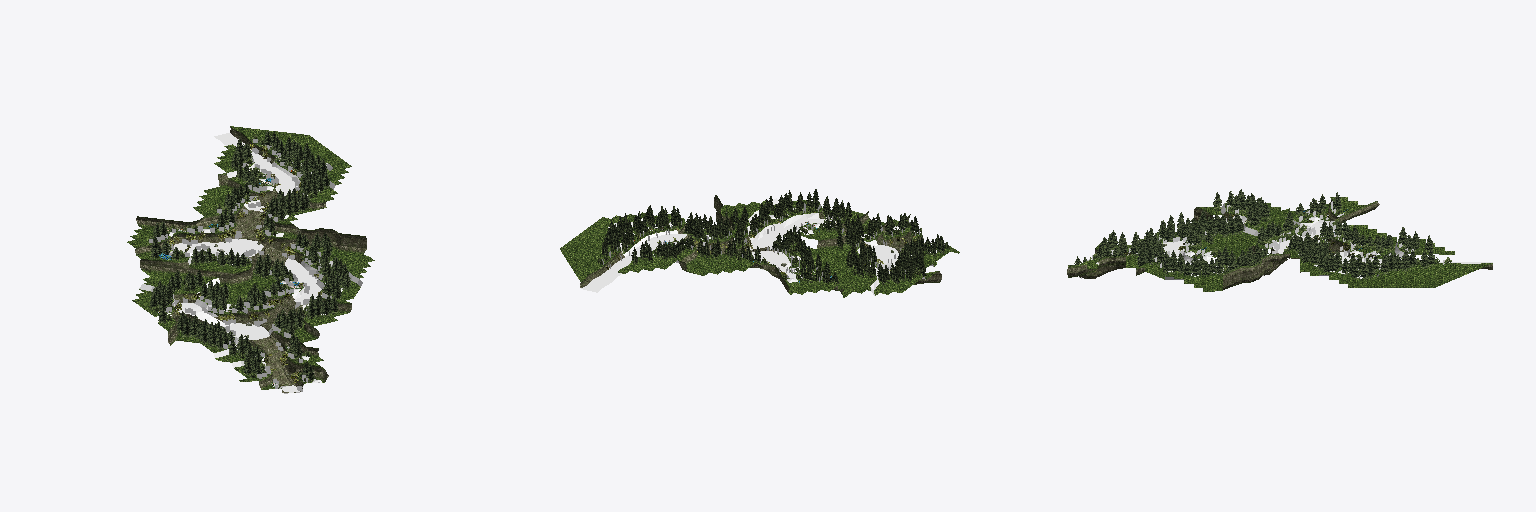
The picture shows the model from 3 angles: view 1: azimuth 30°, elevation 25°; view 2: azimuth 150°, elevation 25°; view 3: azimuth 270°, elevation 25°; orthographic projection.
Parts seen in each view (by area): view 1: Object.412, Object.420, Object.424, Object.434, Object.423; view 2: Object.404, Object.412, Object.375; view 3: Object.404, Object.424, Object.413, Object.403, Object.434, Object.437.
Boxes of the visible parts, <box> form: Object.412: <box>307,276,341,318</box>; Object.420: <box>182,315,220,346</box>; Object.424: <box>188,270,229,309</box>; Object.434: <box>300,169,329,199</box>; Object.423: <box>149,282,173,323</box>; Object.404: <box>560,238,601,263</box>; Object.412: <box>800,189,851,220</box>; Object.375: <box>810,227,859,260</box>; Object.404: <box>1406,271,1454,287</box>; Object.424: <box>1212,206,1260,237</box>; Object.413: <box>1170,253,1216,276</box>; Object.403: <box>1358,271,1405,287</box>; Object.434: <box>1305,246,1341,272</box>; Object.437: <box>1387,250,1434,271</box>.
Bounding box in the file's own units: 125 × 45.35 × 177.
16 materials, 13 textured.